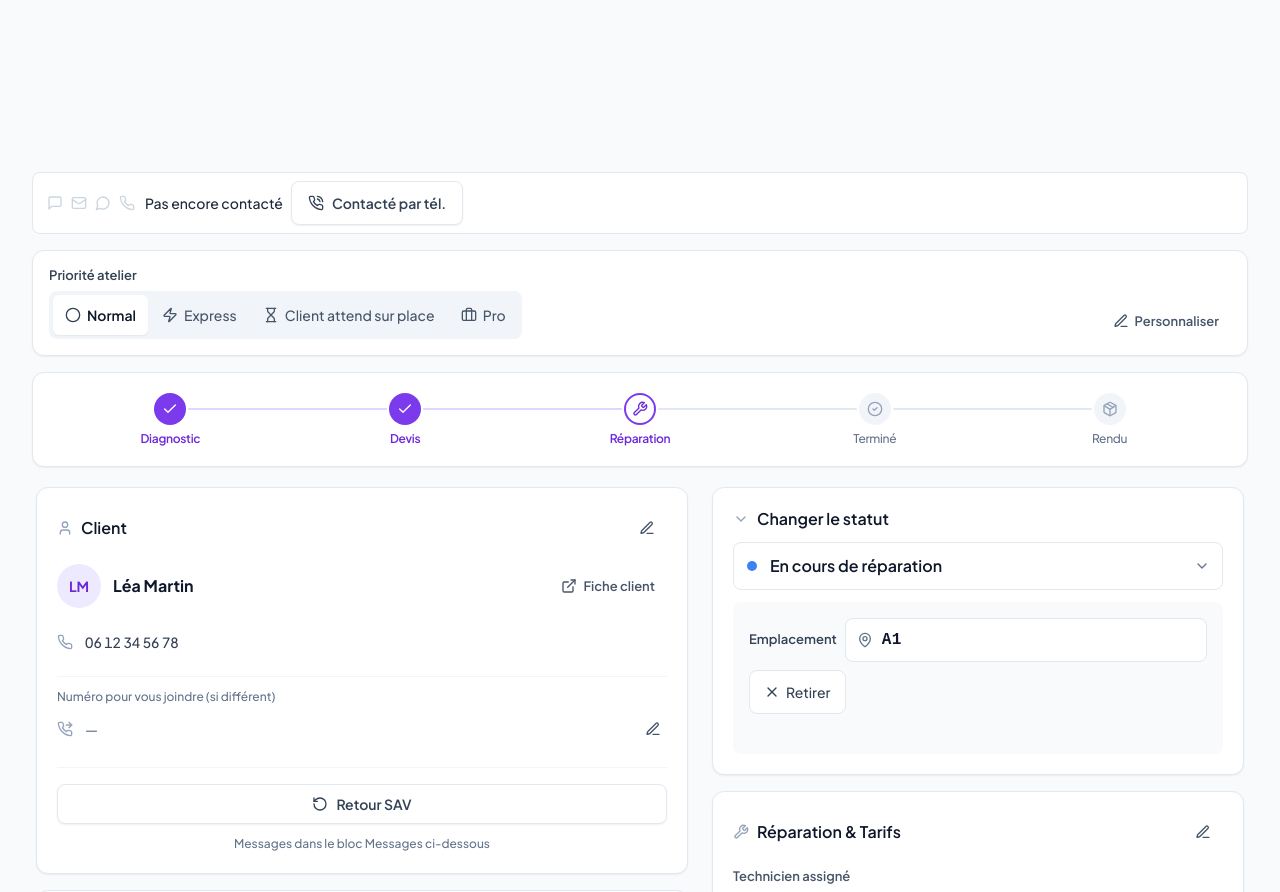
Test: Fiche : emplacement sur l’étagère › saisie libre modifiable avant la remise (réparation en cours), sans invitation
Replace the text in the field labelled "Emplacement" with "c 4" at (1026, 640), box [845,618,1207,662]
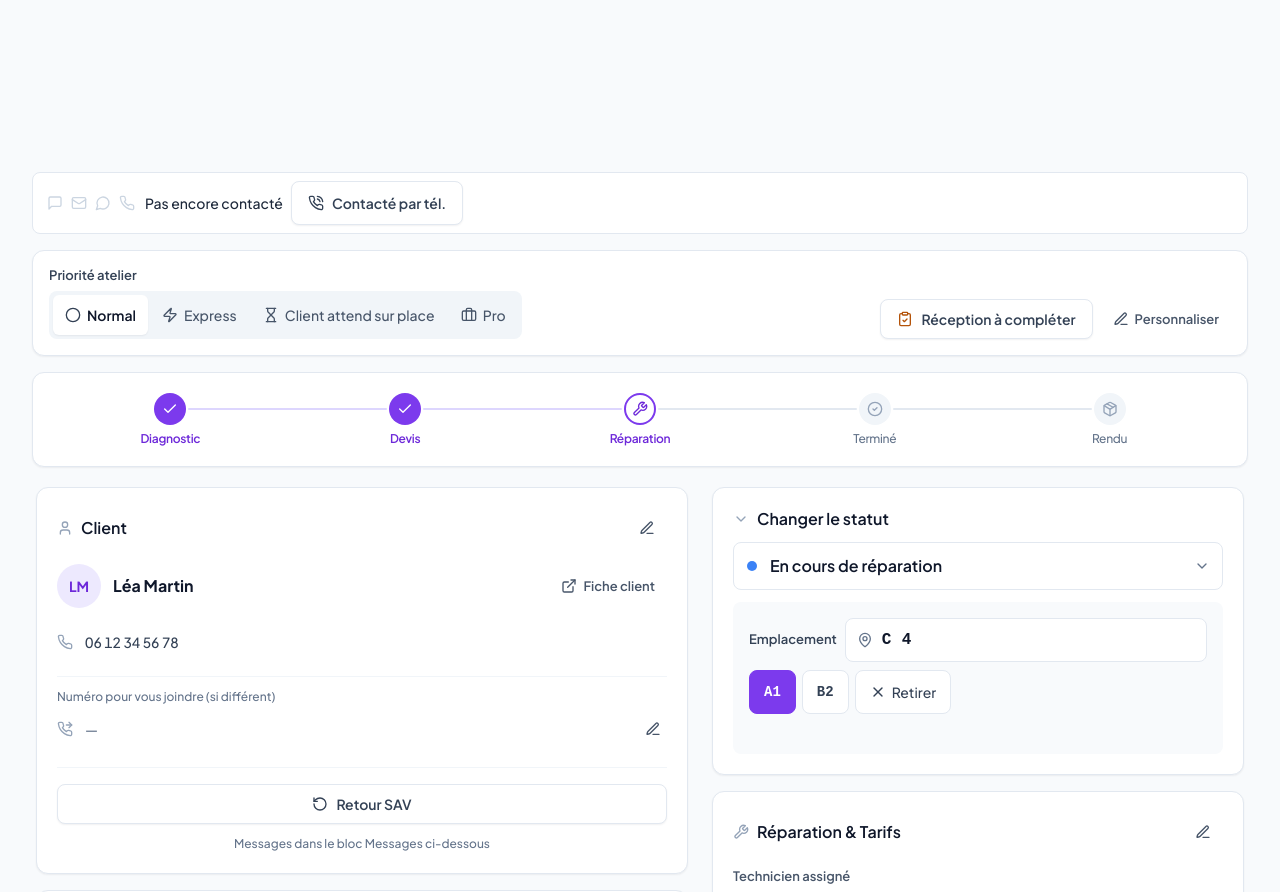
Press Enter in the field labelled "Emplacement", box [845,618,1207,662]
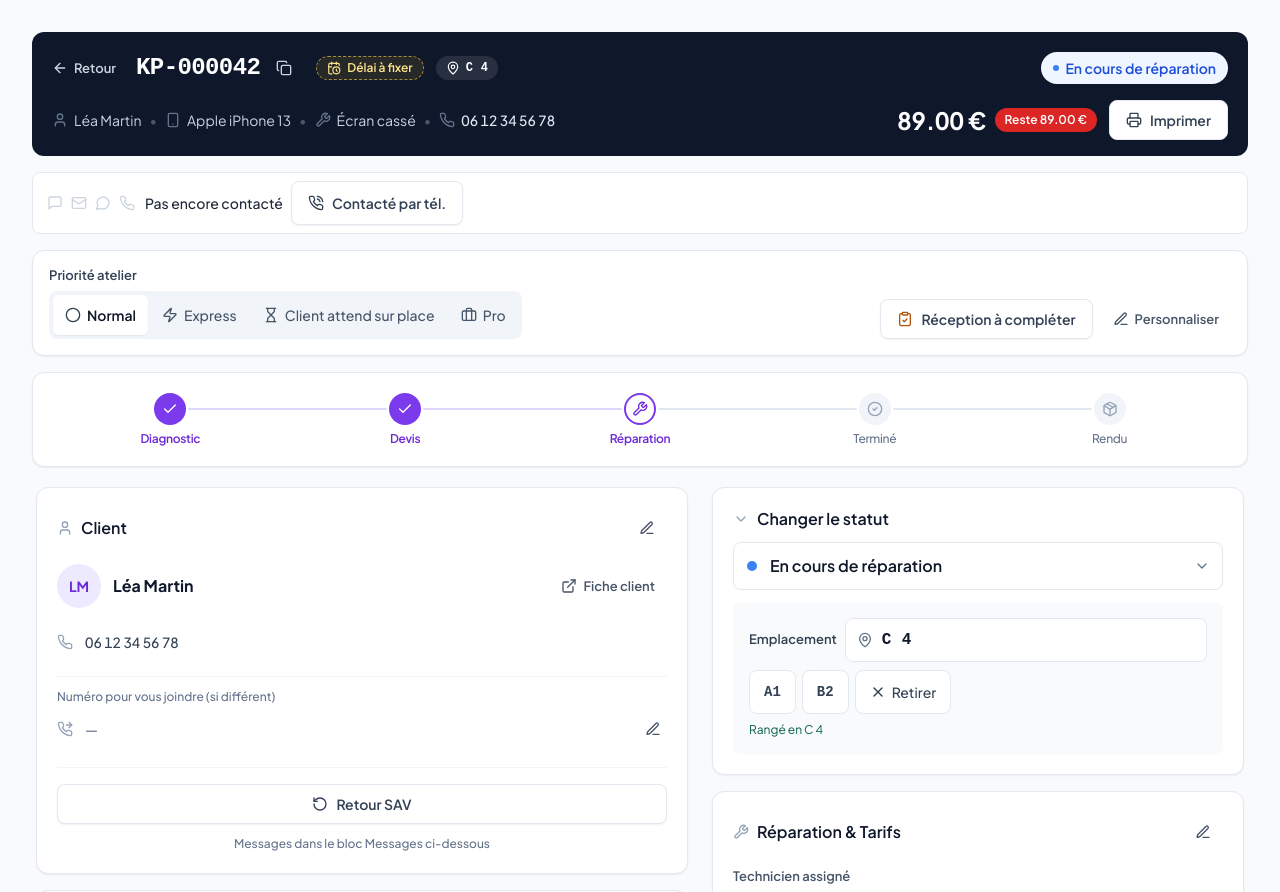
Expected: the element titled "Emplacement sur l’étagère" reads "C 4", [466,61,488,75]
